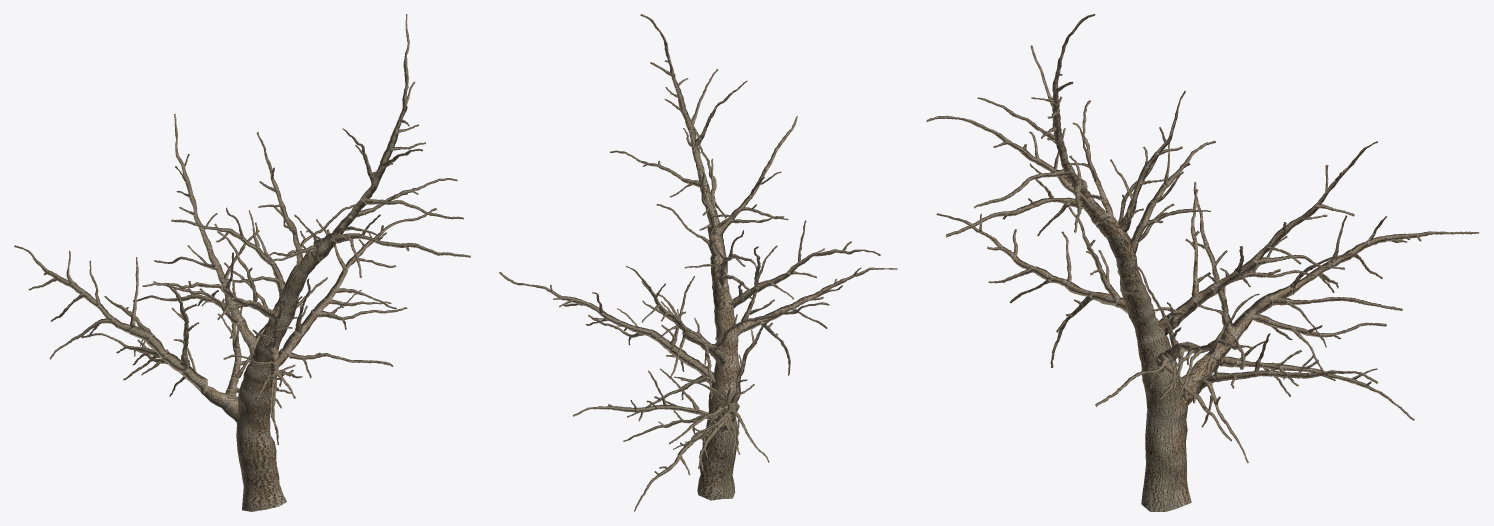
File: tower.obj
3 views of the same model, side by side, from view 1: azimuth 30°, elevation 25°; view 2: azimuth 150°, elevation 25°; view 3: azimuth 270°, elevation 25° (orthographic). The views are drawn at different scales.
Visible parts, largest first — view 1: Tree_1; view 2: Tree_1; view 3: Tree_1.
Part boxes in pixels (x1=…): Tree_1: x1=14, y1=14, x2=470, y2=511; Tree_1: x1=499, y1=14, x2=897, y2=511; Tree_1: x1=926, y1=14, x2=1479, y2=511.
Bounding box in the file's own units: 5.82 × 7.5 × 6.77.
Materials: 1 (1 with a texture image).
